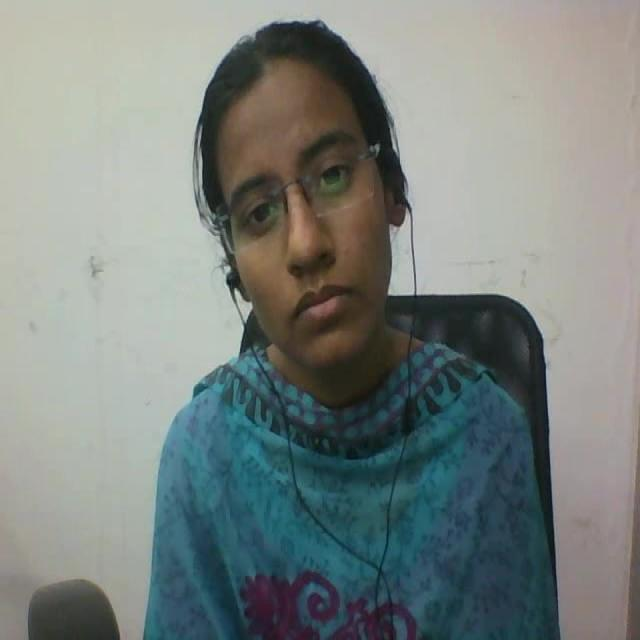Engaged: (173, 0, 465, 391)
